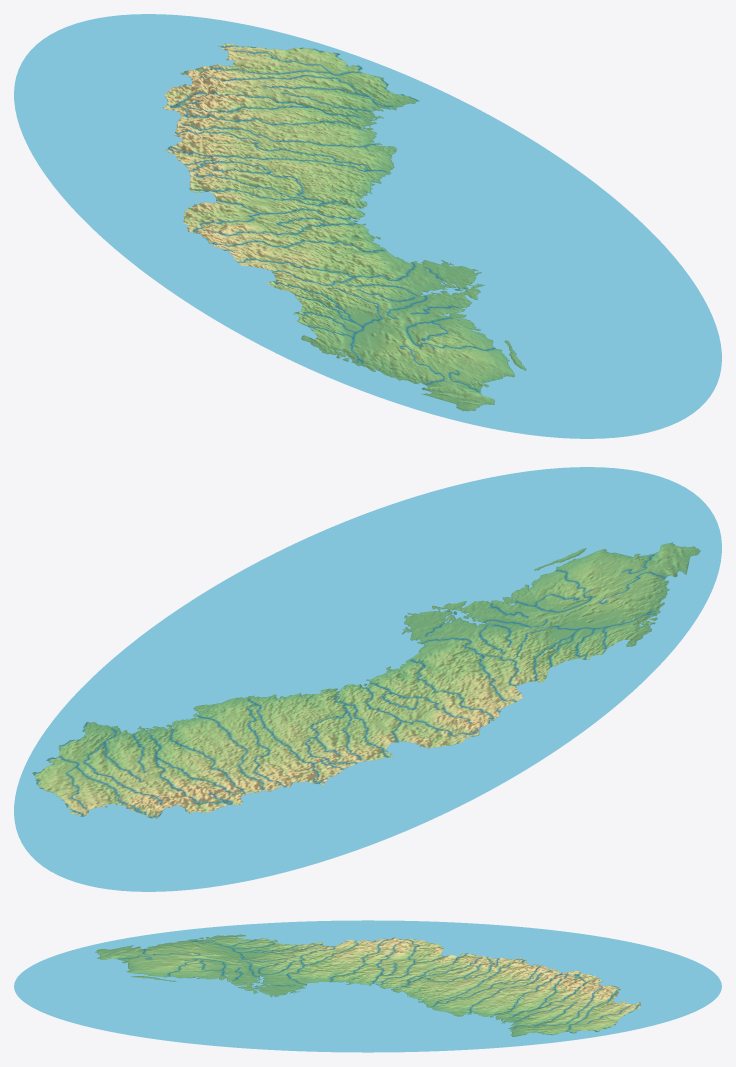
Rendered from SWE-terrain.glb.
3 renders of one model, top to bottom at view 1: azimuth 30°, elevation 25°; view 2: azimuth 150°, elevation 25°; view 3: azimuth 270°, elevation 25°, orthographic. The views are drawn at different scales.
Parts seen in each view (by area): view 1: Relevo com hidrografia; view 2: Relevo com hidrografia; view 3: Relevo com hidrografia.
Part boxes in pixels (x1=…): Relevo com hidrografia: x1=14, y1=14, x2=721, y2=438; Relevo com hidrografia: x1=14, y1=467, x2=721, y2=891; Relevo com hidrografia: x1=14, y1=920, x2=721, y2=1052.
Bounding box in the file's own units: 0.9211 × 0.0205 × 2.09.
2 materials, 1 textured.
